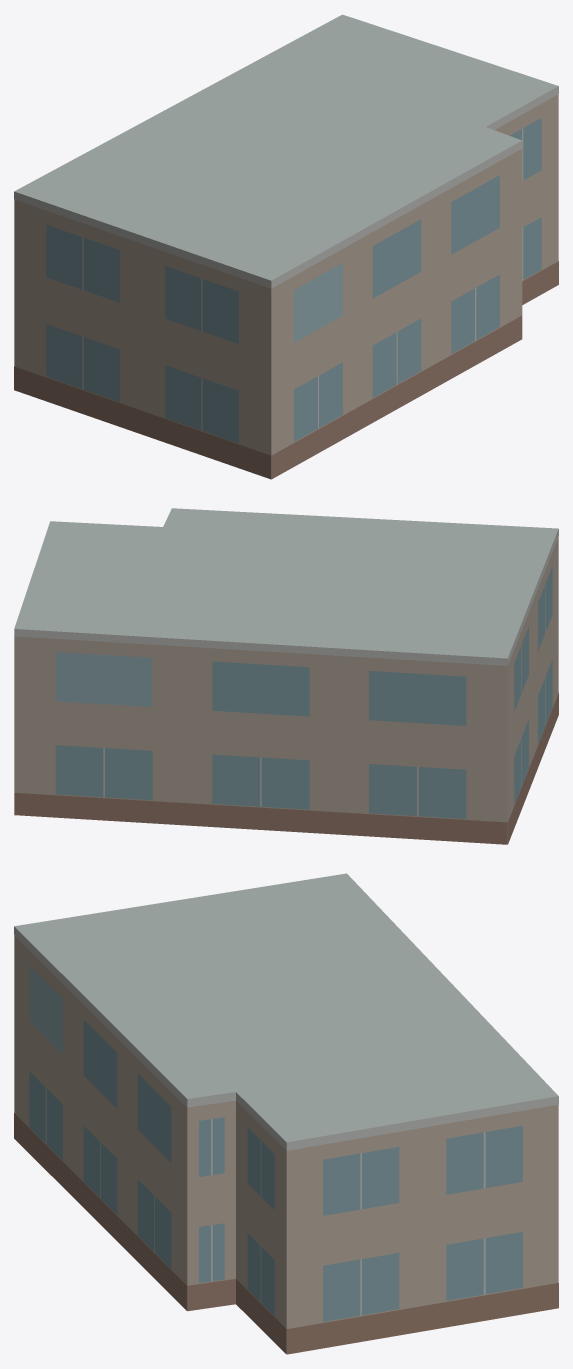
The model's file is survey-upis-32851312.glb.
The picture shows the model from 3 angles, top to bottom: view 1: azimuth 30°, elevation 25°; view 2: azimuth 150°, elevation 25°; view 3: azimuth 270°, elevation 25°; orthographic projection. The views are drawn at different scales.
Parts seen in each view (by area): view 1: survey-upis-32851312.tmp; view 2: survey-upis-32851312.tmp; view 3: survey-upis-32851312.tmp.
Part boxes in pixels (<box>): survey-upis-32851312.tmp: <box>14,14,558,479</box>; survey-upis-32851312.tmp: <box>14,508,558,844</box>; survey-upis-32851312.tmp: <box>14,873,558,1354</box>.
Size of the model in its own units: 16.61 by 6.1 by 14.21.
